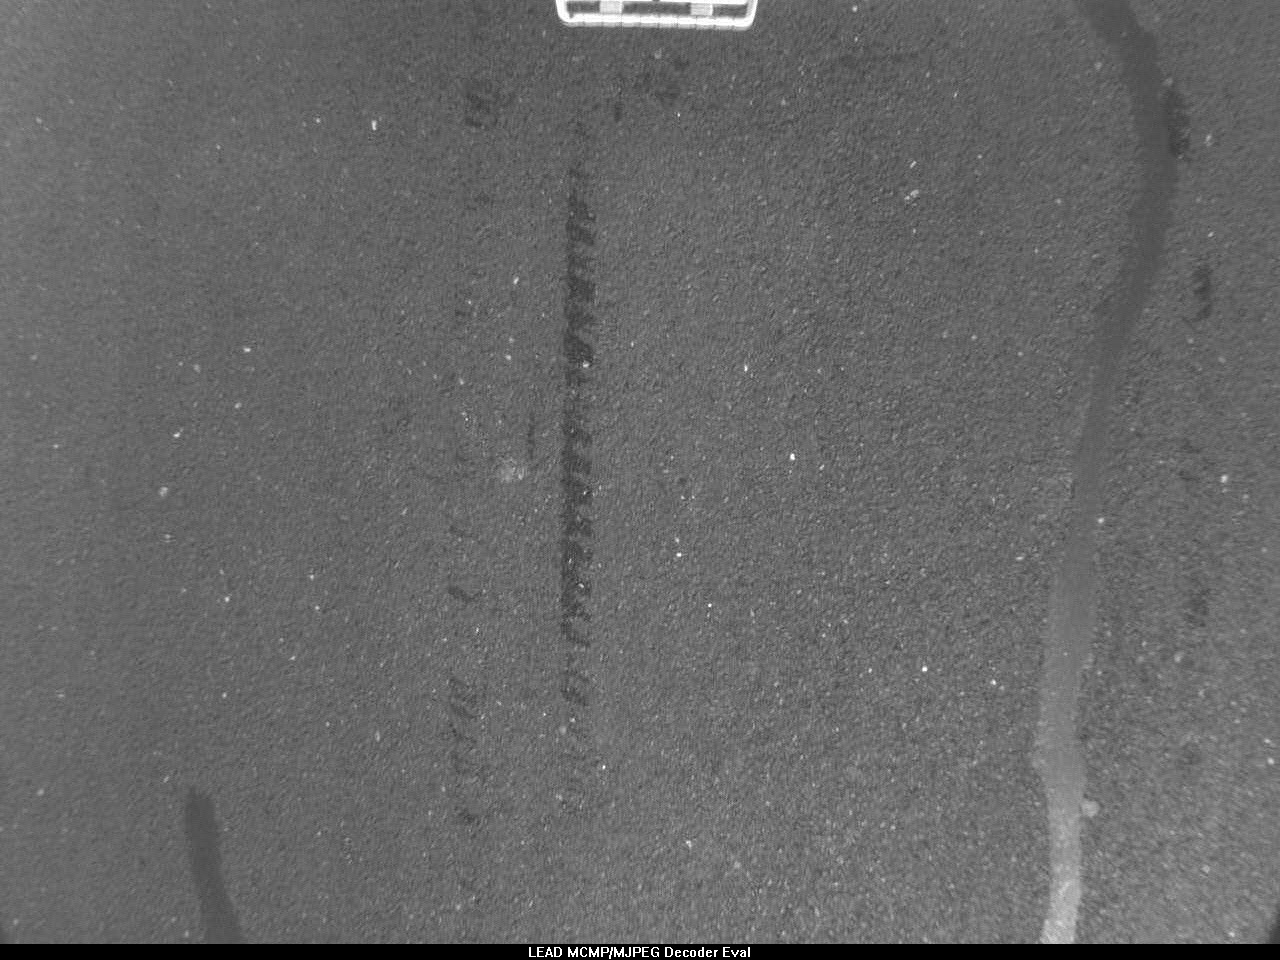sealed: (176, 778, 248, 938)
